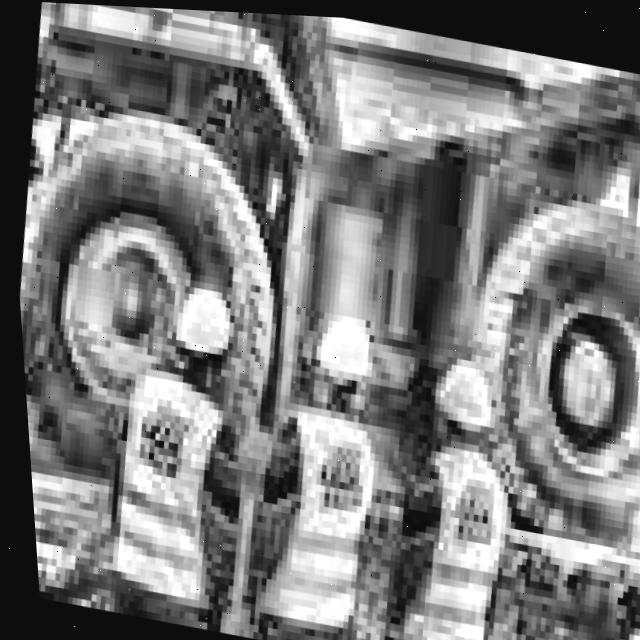dump_truck: (0, 0, 640, 583)
